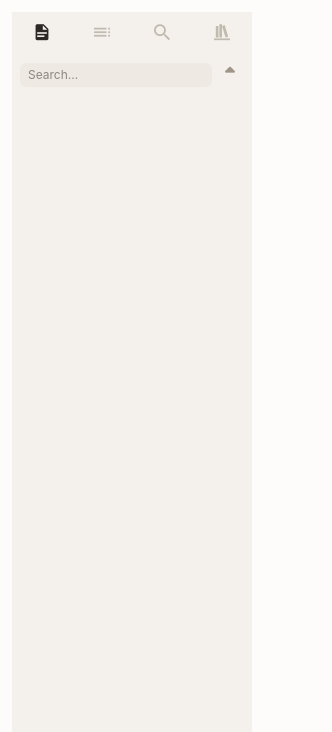
Test: Sidebar tabs › clicking Outline switches to outline; clicking Files switches back
Click the button named "Outline" at x=102, y=32, box x1=72 y1=12 x2=132 y2=52
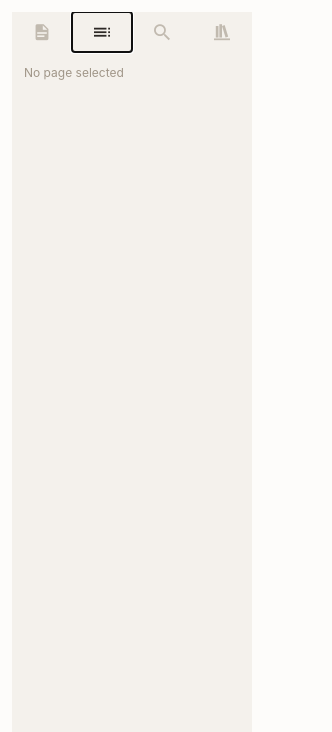
Result: the text "No page selected" is shown at x1=24 y1=65 x2=124 y2=80
Click the button named "Files" at x=42, y=32, box x1=12 y1=12 x2=72 y2=52
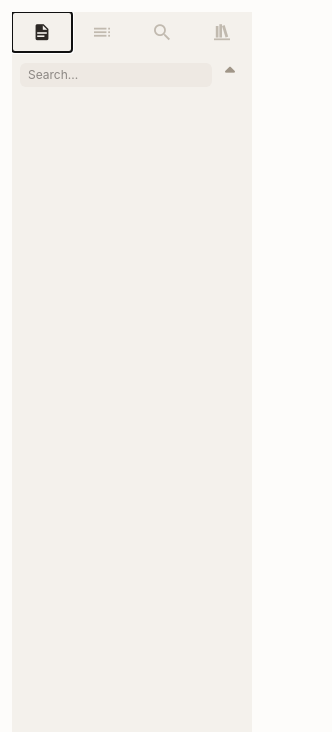
Result: the field named "Search pages" is shown at x1=20 y1=63 x2=212 y2=87
